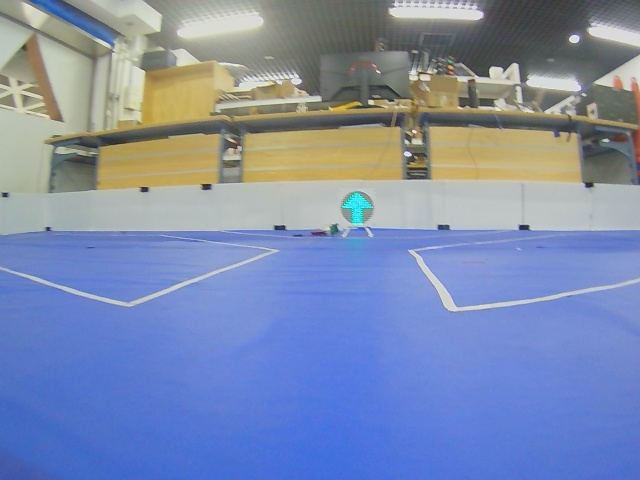straight_green: (341, 191, 374, 226)
